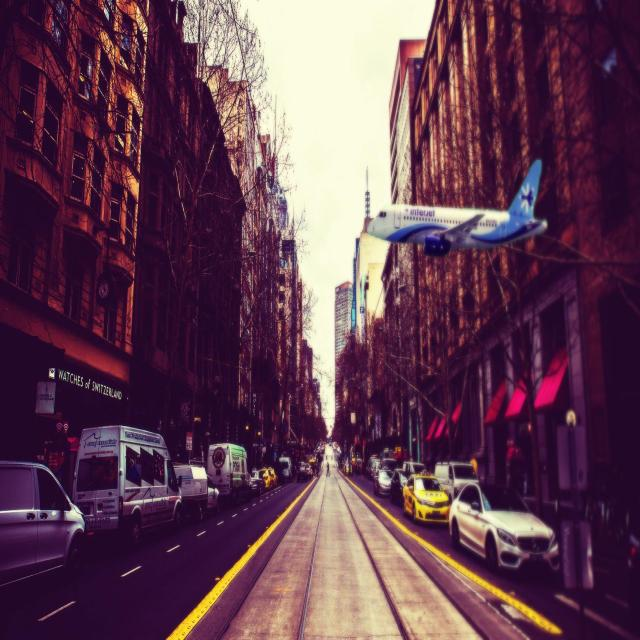airplane: (366, 157, 548, 257)
